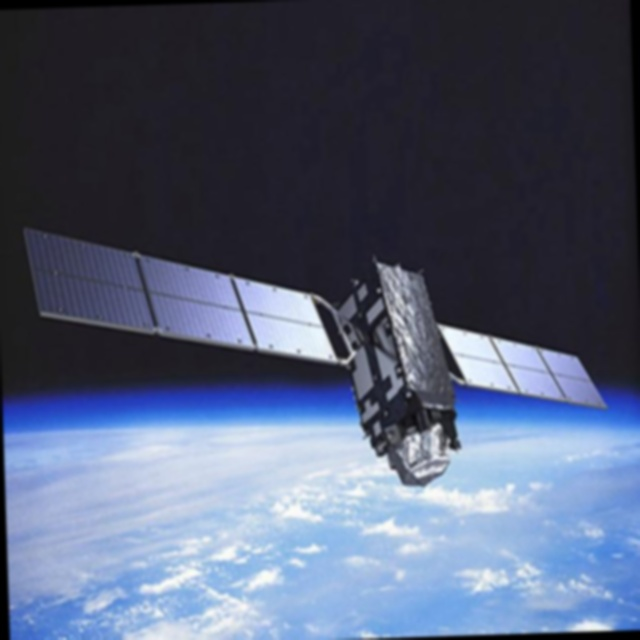satellite: (0, 191, 618, 516)
